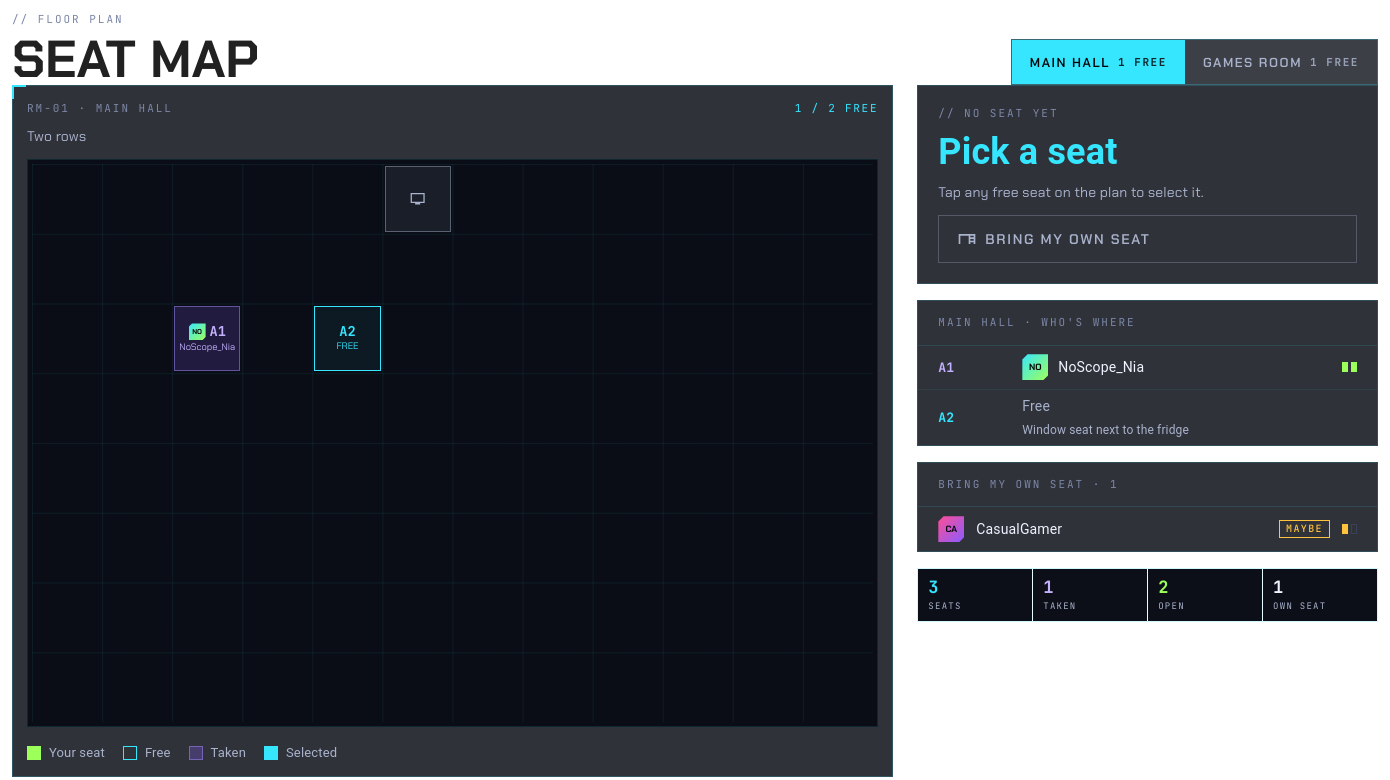
Test: EventSeatMap › shows a seat's description on the tile, when selected and in who's where
Click the button with aria-label "A2, Window seat next to the fridge, free" at (347, 339), box 314,306 -> 380,371
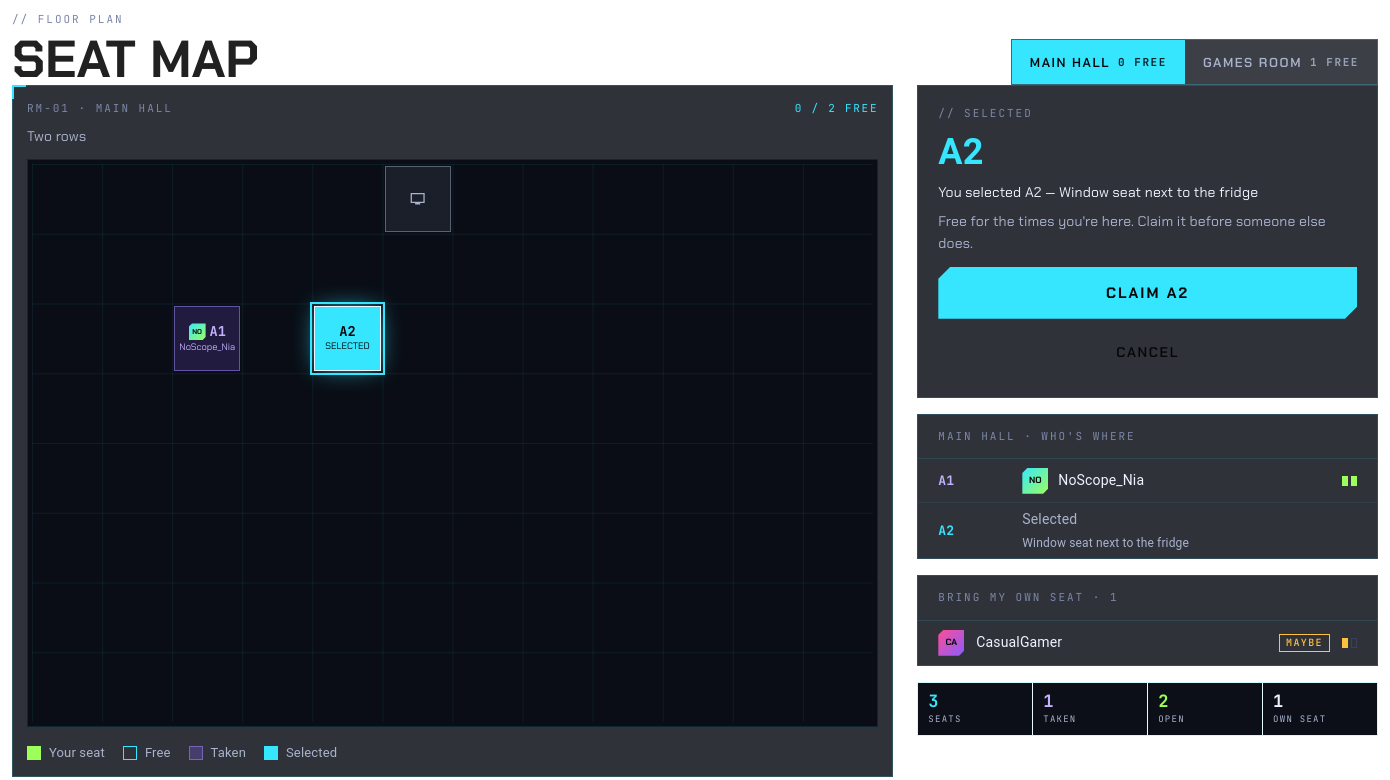
Expected: the text "Window seat next to the fridge" is shown, 1022,536 -> 1189,550
Expected: the text "You selected A2 — Window seat next to the fridge" is shown, 938,183 -> 1258,201
